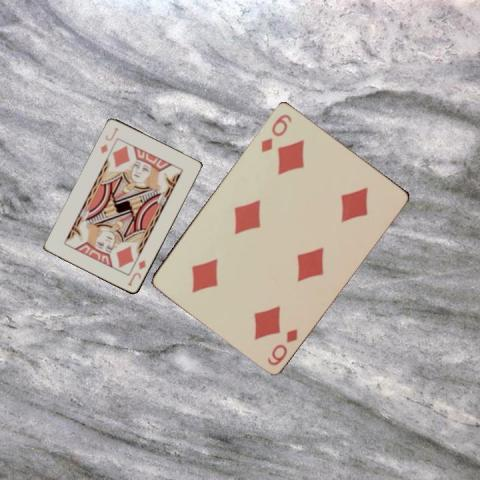6d: (258, 110, 293, 153), (264, 325, 299, 367)
Jd: (97, 125, 120, 155), (125, 257, 147, 288)
